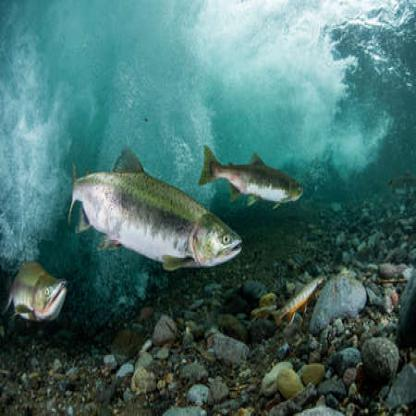fish: (66, 145, 242, 271), (198, 142, 303, 210)
